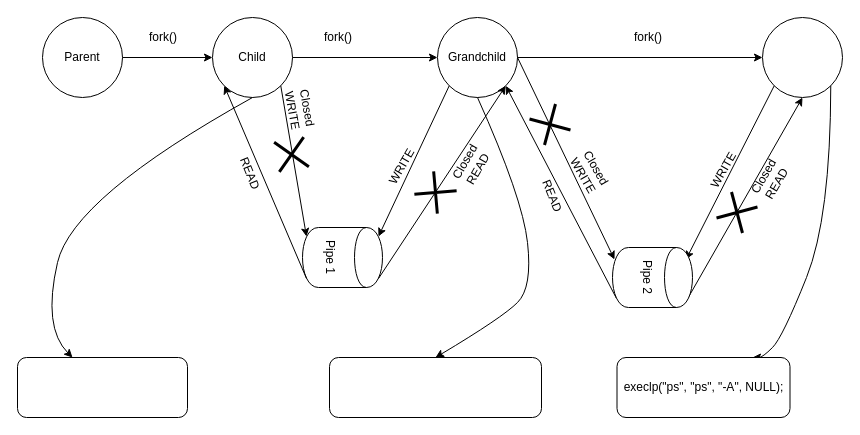
Image size: 860x435. Some labels were removed from this diagram. Each missing label, with the centre of its shape:
execlp ( " grep " , " grep " , argv[ 1 ], NULL );: point (435, 387)
execlp ( " wc " , " wc " , " -l " , NULL );: point (102, 387)
Great grandchild: point (802, 57)
